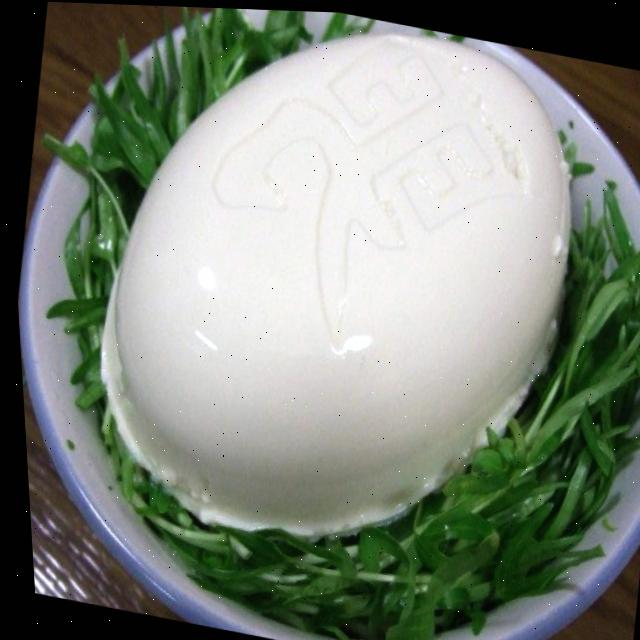豆腐料理: (53, 2, 616, 590)
